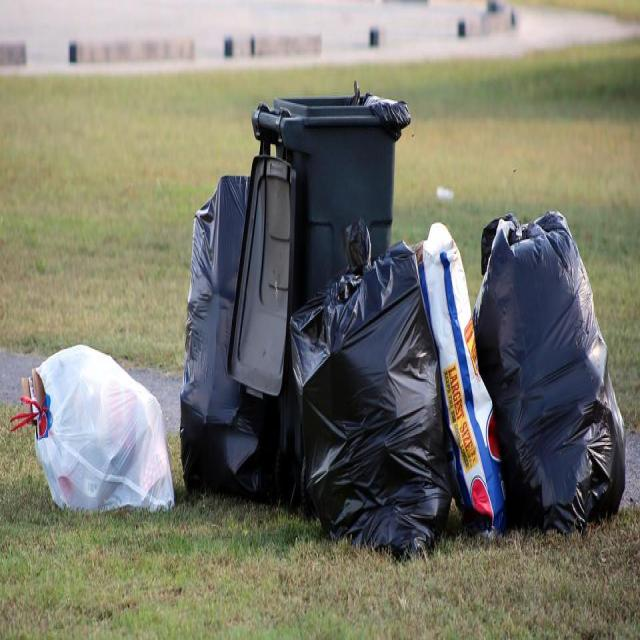trash: (331, 264, 586, 527), (33, 350, 151, 518), (195, 196, 237, 471)
